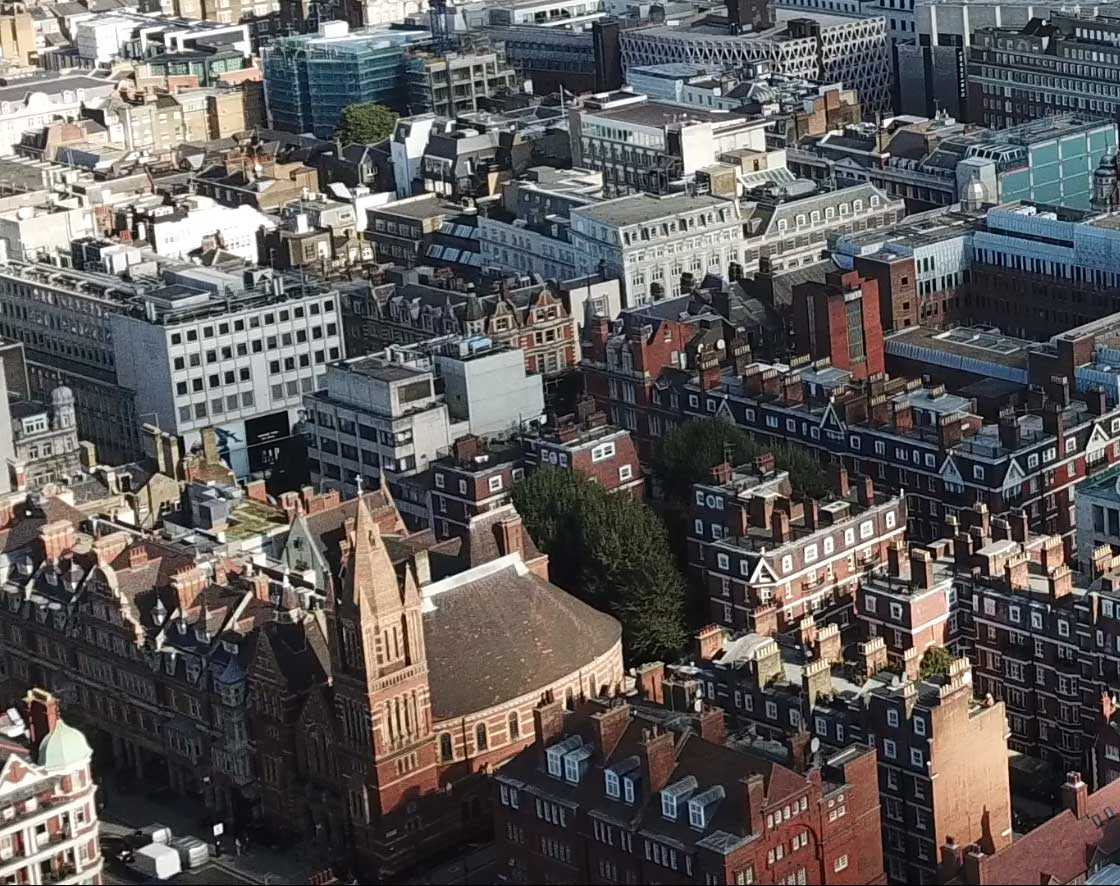building: (53, 498, 622, 823)
trees: (504, 455, 703, 644)
